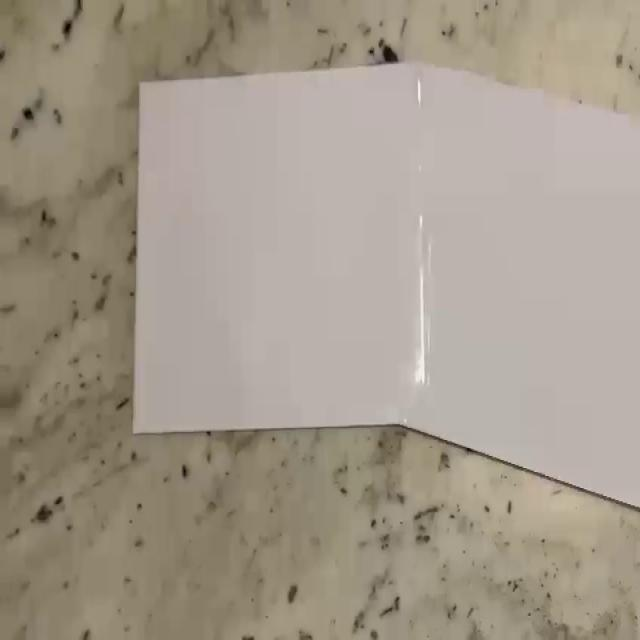road: (132, 63, 640, 511)
